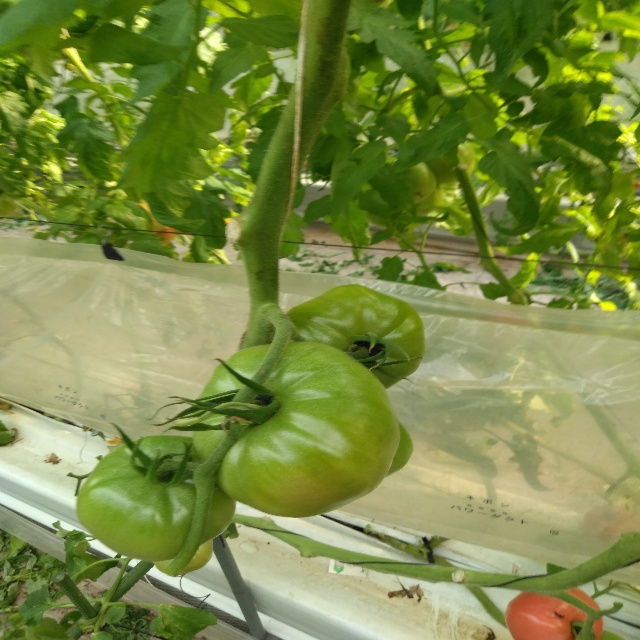b_fully_ripened: (505, 588, 604, 640)
b_green: (192, 340, 400, 518), (77, 436, 236, 562), (271, 284, 427, 390), (149, 537, 214, 576)
